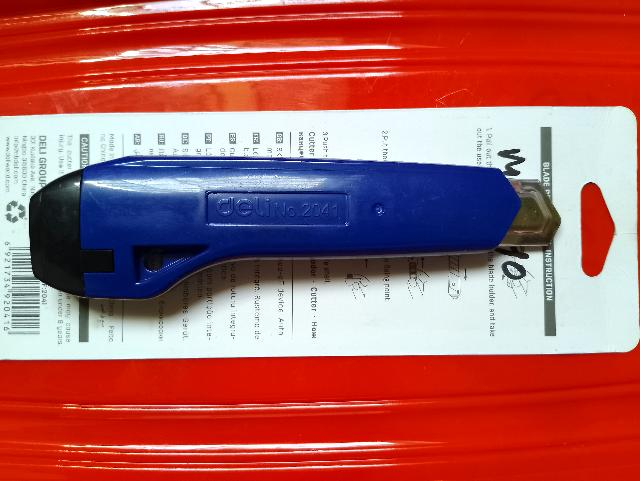hardplastic: (25, 165, 562, 304)
